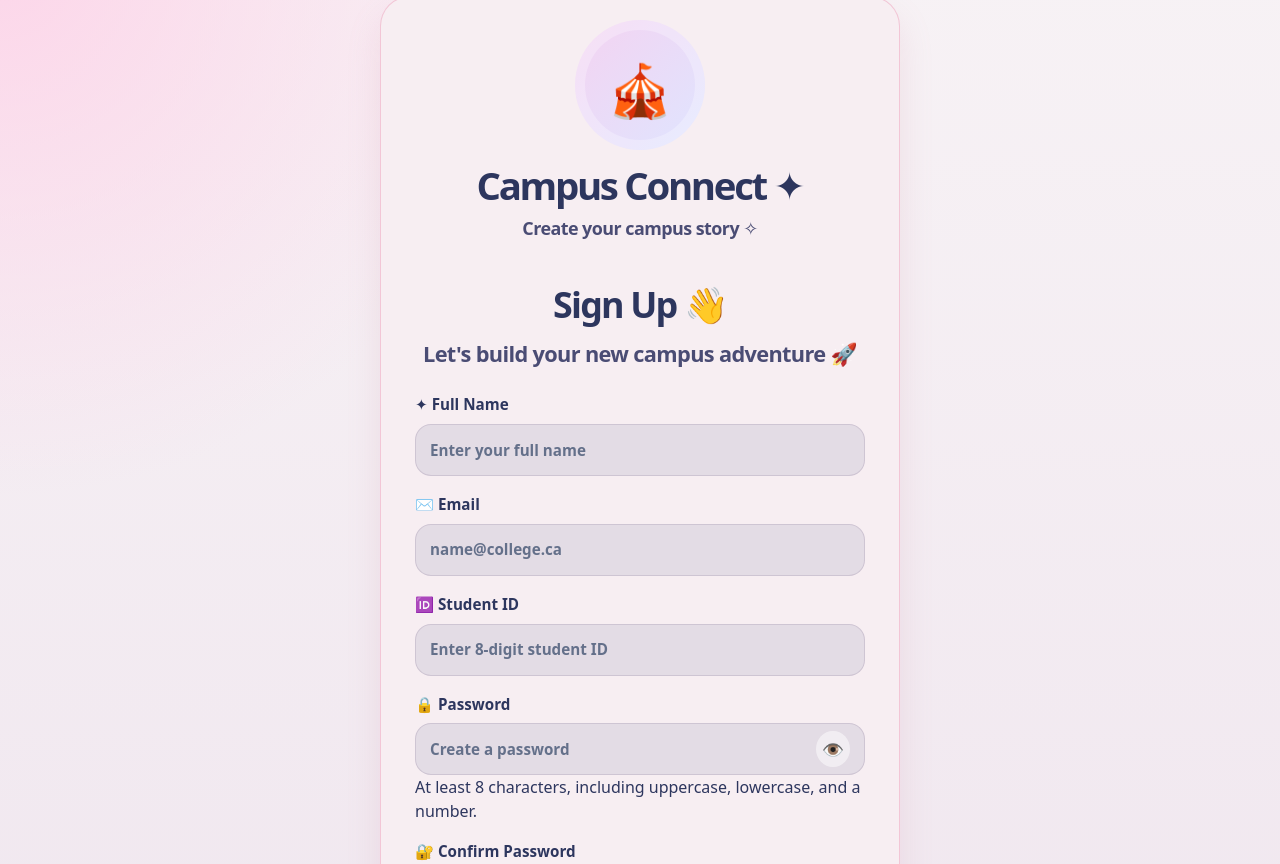
Test: SignUpPage › displays a duplicate-account error returned by the API
This screenshot has width=1280, height=864.
Type "Mina Taherzadeh" into the field labelled "Full Name" at (640, 450), box left=430, top=439, right=850, bottom=461
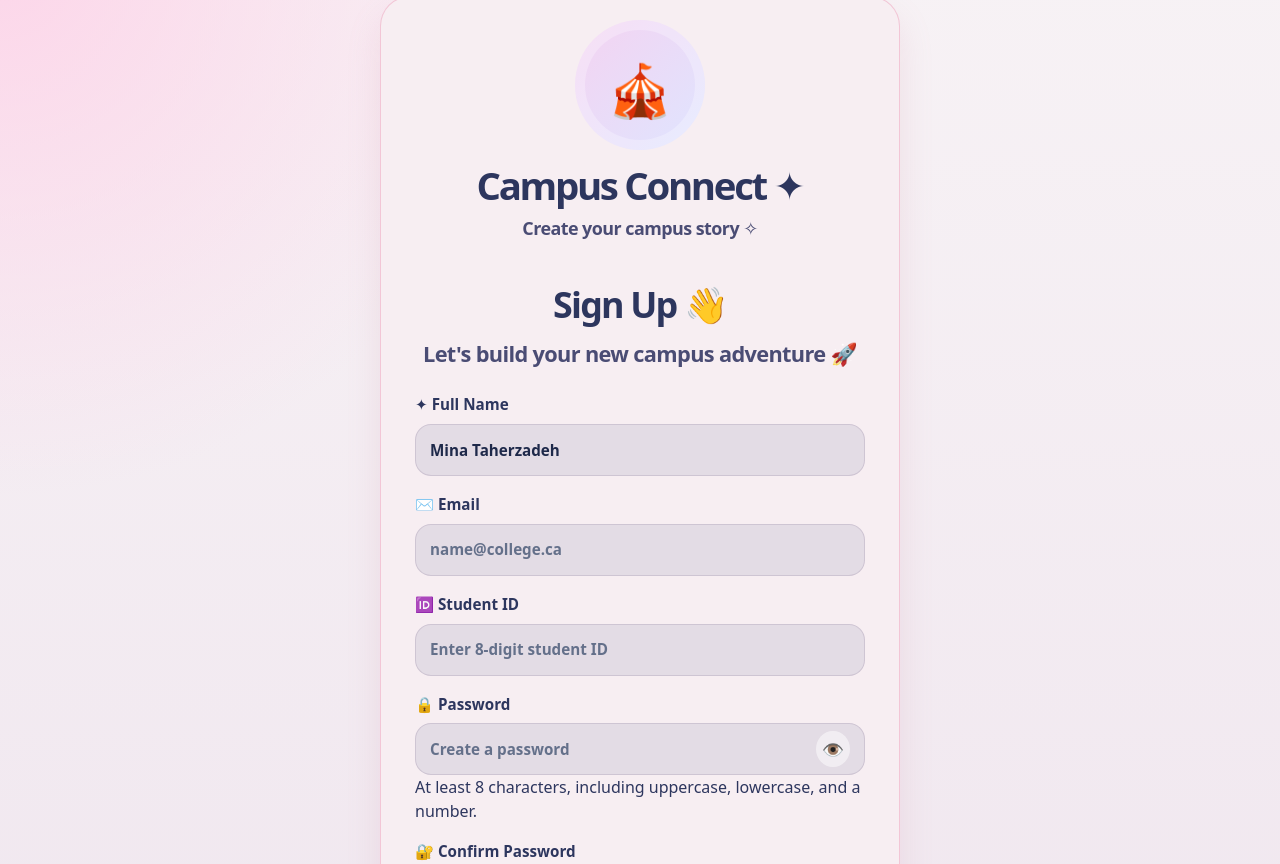
Type "Mina.taherzadeh@test.com" into the field labelled "Email" at (640, 550), box left=430, top=538, right=850, bottom=561
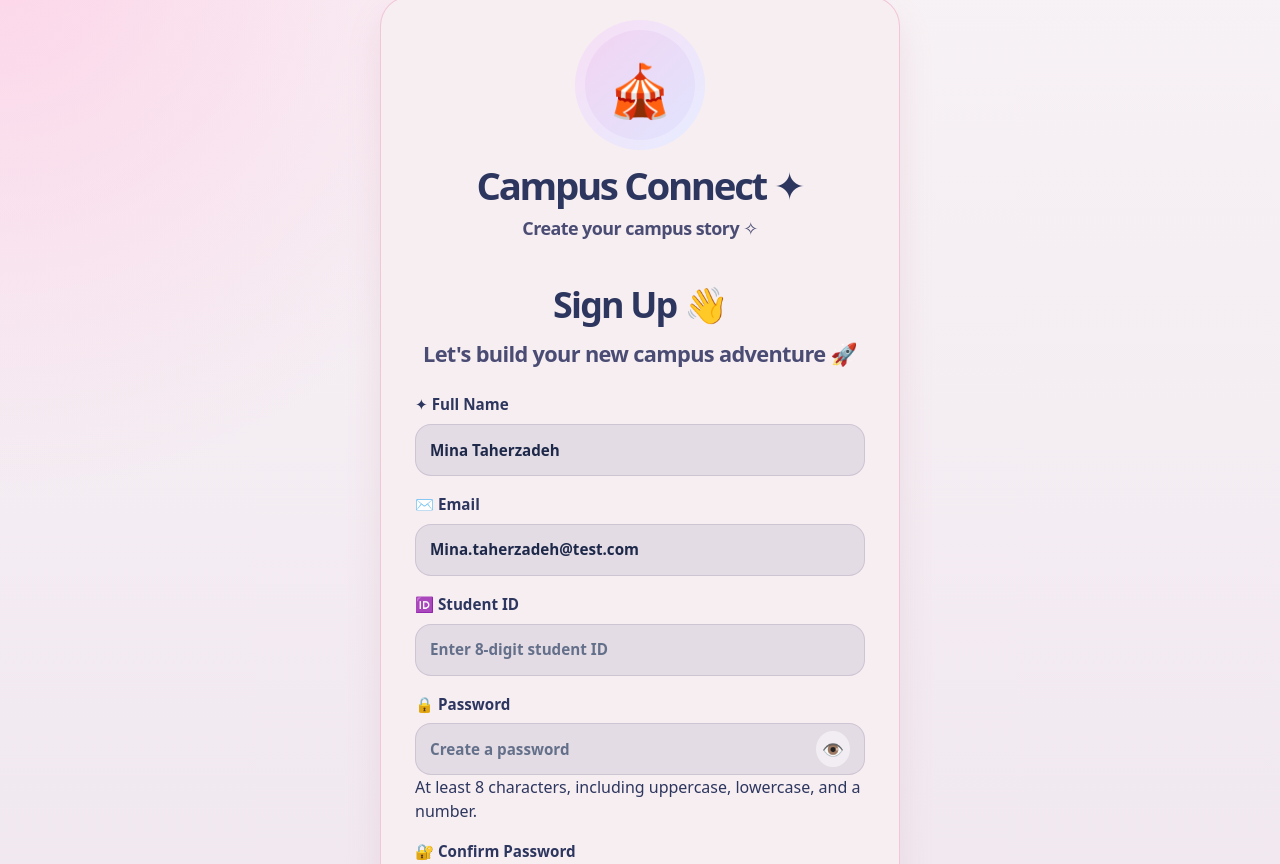
Type "00092277" into the field labelled "Student ID" at (640, 650), box left=430, top=638, right=850, bottom=661
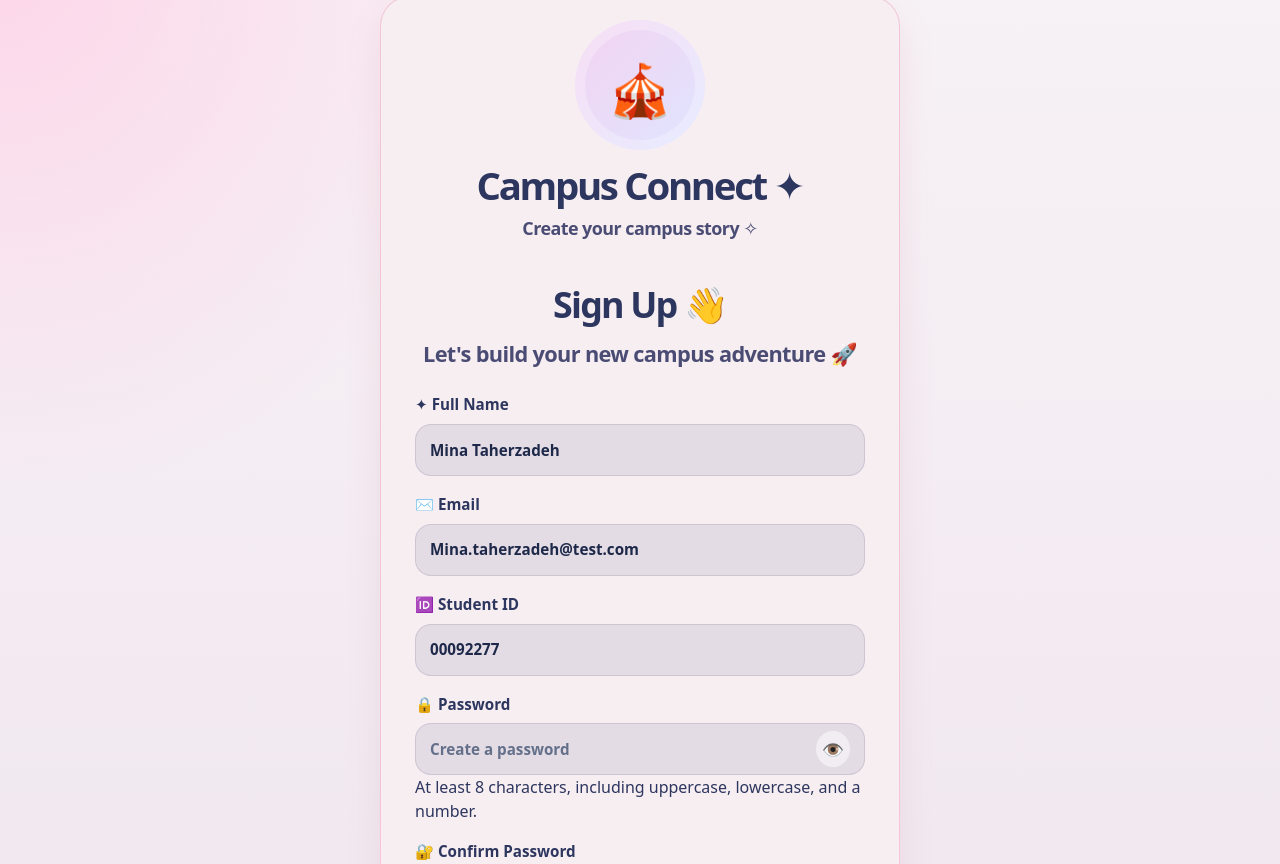
Type "Password1" into the password field labelled "Password" at (623, 749), box left=430, top=738, right=816, bottom=761
(page scrolled)
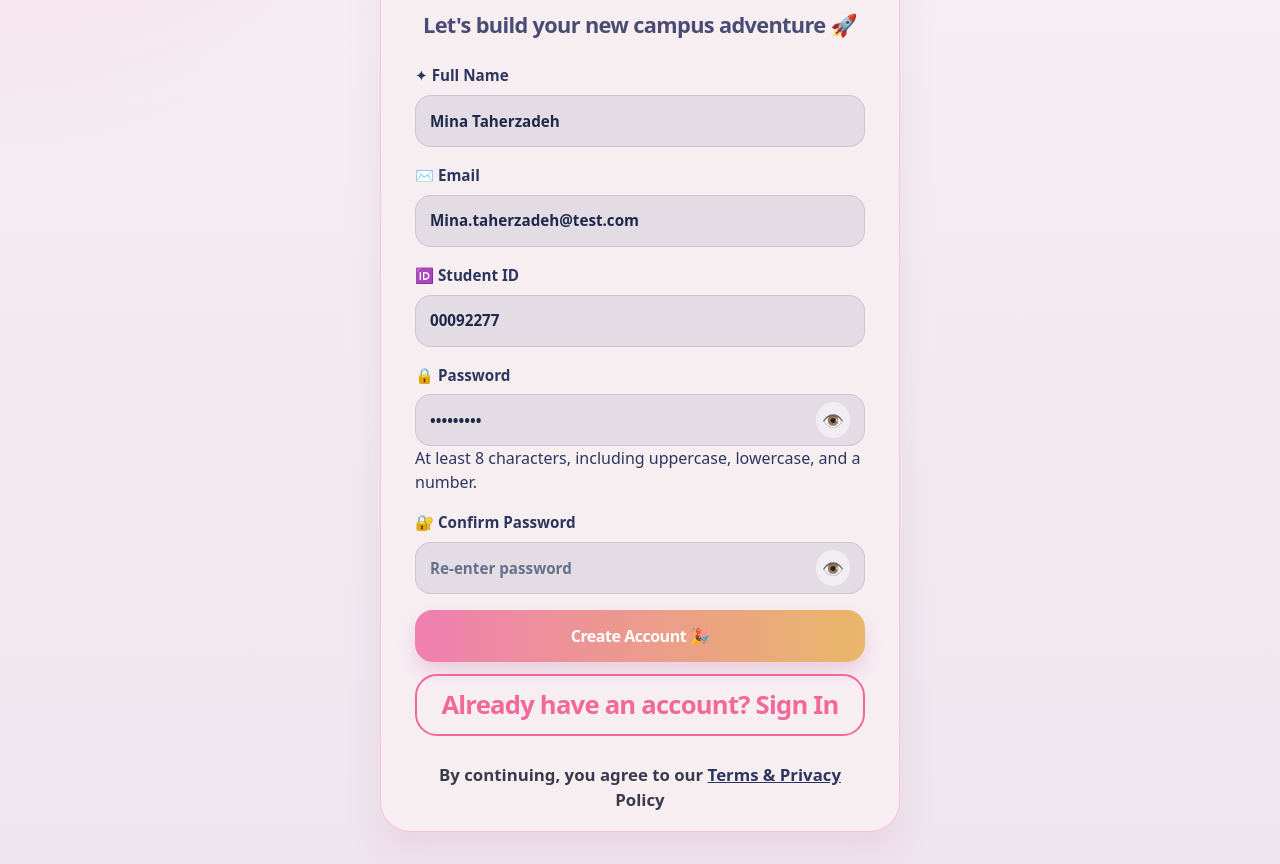
Type "Password1" into the password field labelled "Confirm Password" at (623, 568), box left=430, top=557, right=816, bottom=580
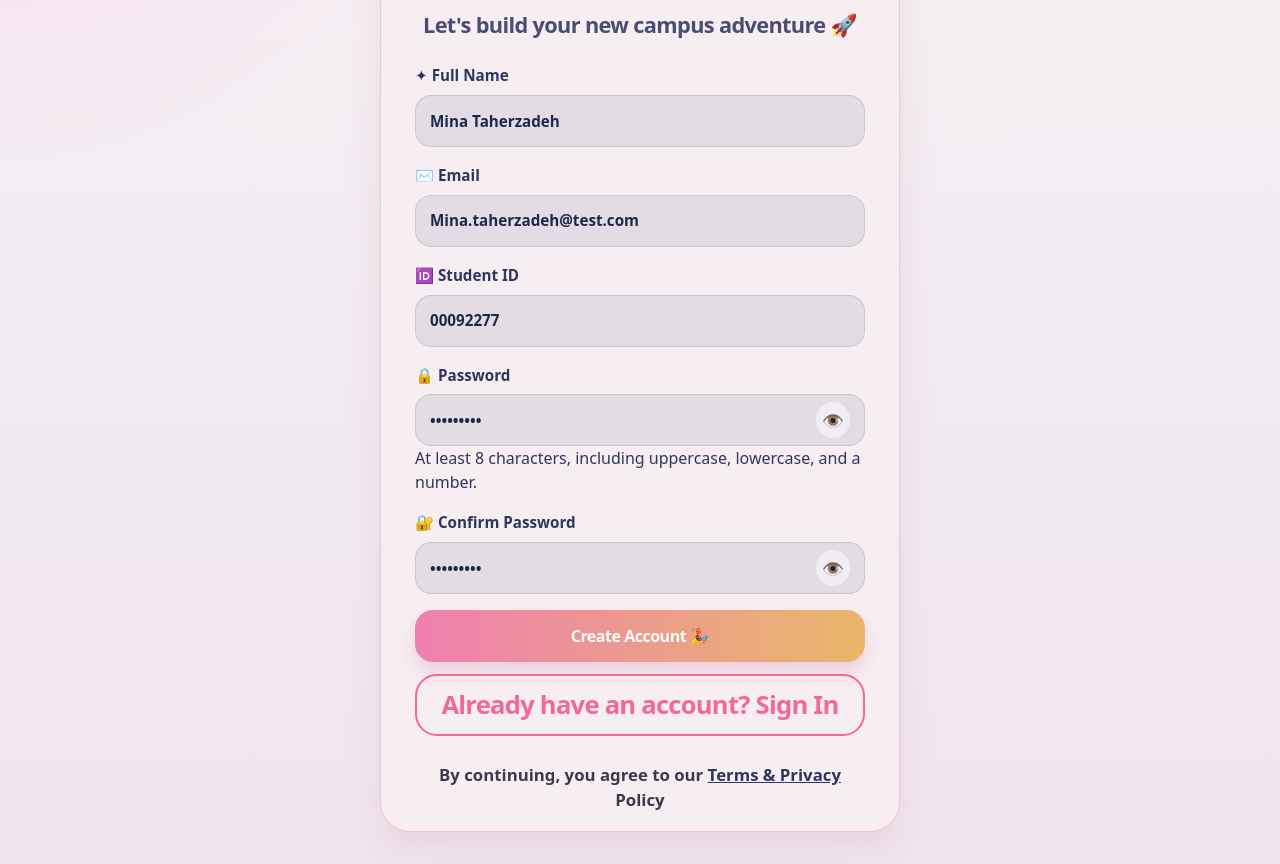
Click the button "Create Account 🎉" at (640, 636), box left=415, top=610, right=865, bottom=662
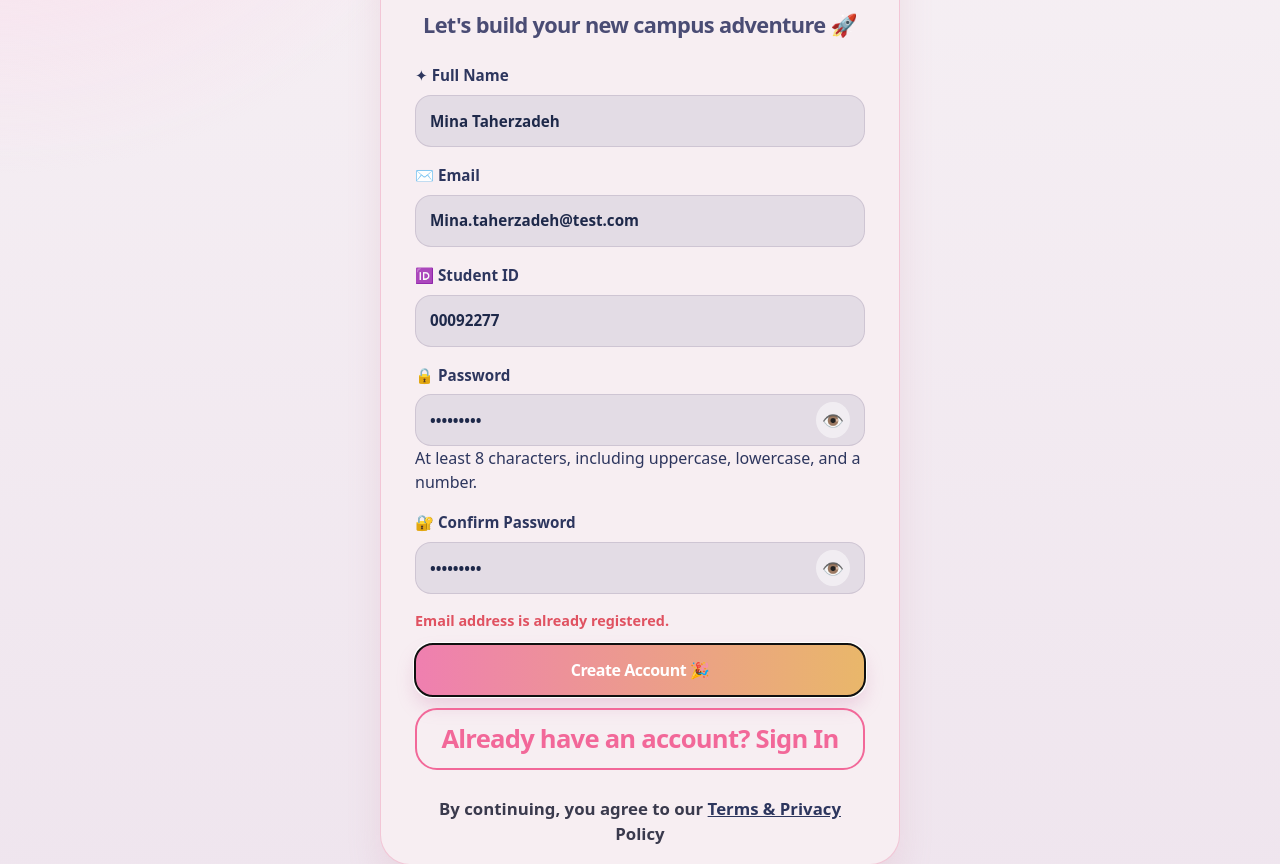
Now the text "Email address is already registered." is shown, box left=415, top=611, right=669, bottom=630
